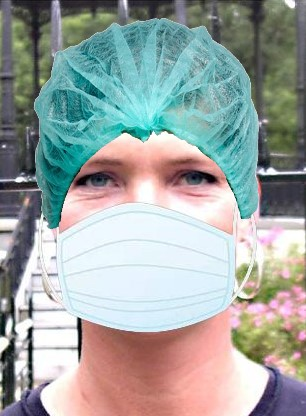with_mask_and_cap: (33, 18, 259, 333)
